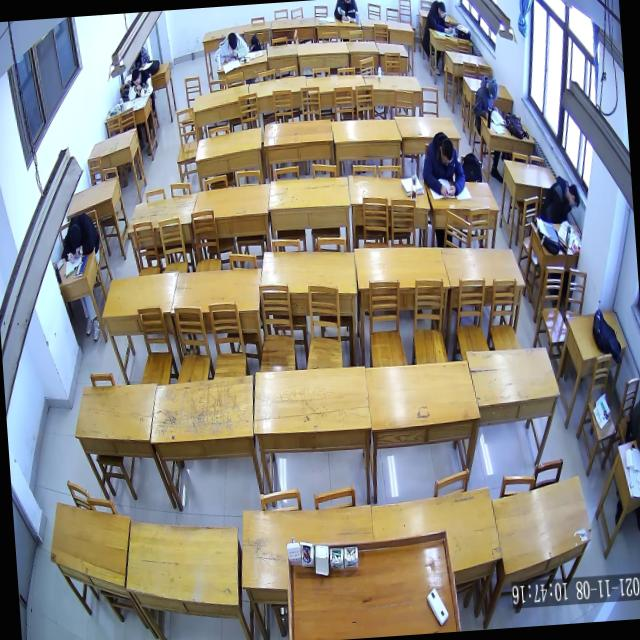bow: (56, 210, 101, 264), (211, 27, 248, 64)
down: (437, 137, 455, 169), (66, 221, 85, 251), (564, 181, 582, 210), (486, 76, 500, 102), (226, 30, 239, 54), (130, 68, 142, 88), (436, 0, 447, 21)
sit: (419, 128, 466, 201), (538, 172, 582, 225), (469, 72, 502, 122), (124, 64, 154, 103), (425, 0, 452, 35)
